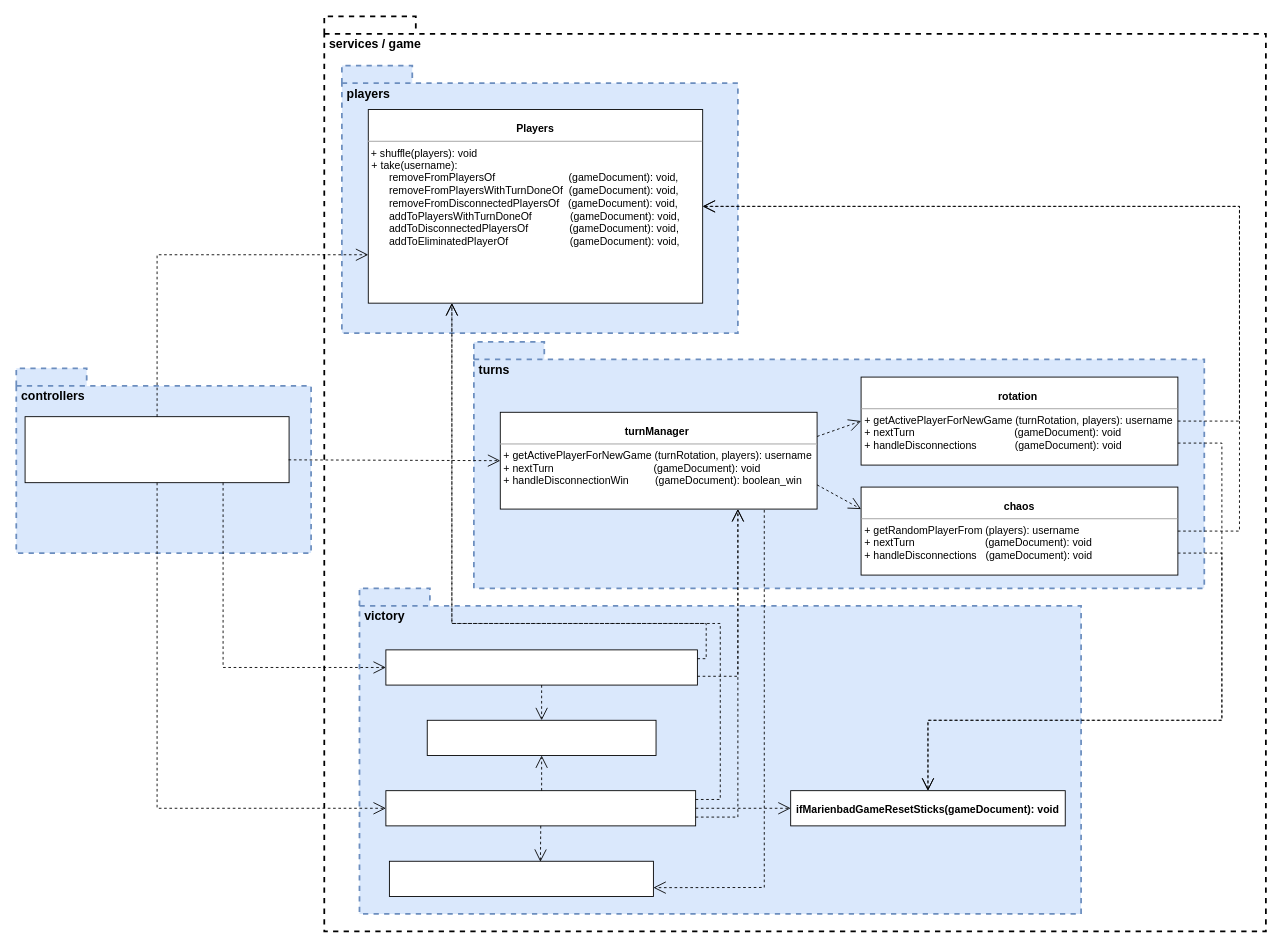
Image size: 1281x947. Some labels were removed from this diagram. Each missing label, with the centre of its shape:
"areAllSticksRemoved(game): boolean" belongs at (541,737).
"Game" belongs at (156,449).
"marienbadWinBehaviour(gameDocument): boolean_win" belongs at (540,808).
"onlyOnePlayerInGame(game): boolean" belongs at (521,878).
"standardWinBehaviour(gameDocument): boolean_win" belongs at (541,667).
